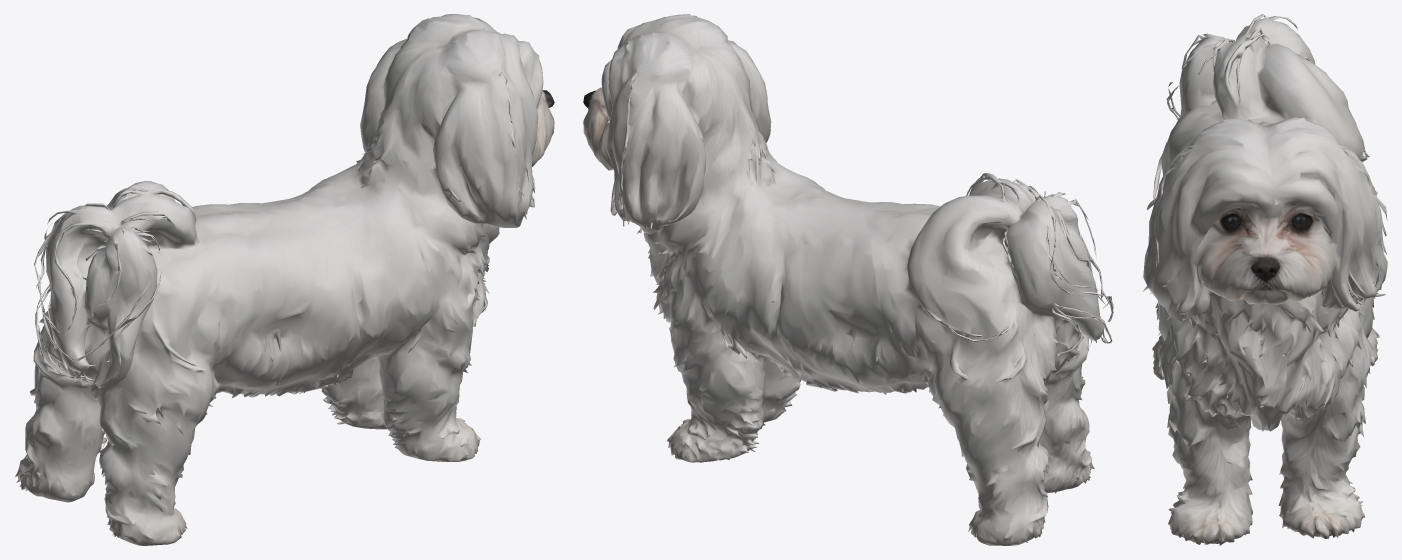
File: maltese.glb
3 renders of one model, left to right at view 1: azimuth 30°, elevation 25°; view 2: azimuth 150°, elevation 25°; view 3: azimuth 270°, elevation 25°, orthographic. The views are drawn at different scales.
Visible parts, largest first — view 1: tripo_node_efeaf3f3-8cd8-46b8-8d13-dce4b616b43d; view 2: tripo_node_efeaf3f3-8cd8-46b8-8d13-dce4b616b43d; view 3: tripo_node_efeaf3f3-8cd8-46b8-8d13-dce4b616b43d.
Part boxes in pixels (x1,y1,x2,y2): tripo_node_efeaf3f3-8cd8-46b8-8d13-dce4b616b43d: [15, 14, 554, 545]; tripo_node_efeaf3f3-8cd8-46b8-8d13-dce4b616b43d: [583, 14, 1113, 545]; tripo_node_efeaf3f3-8cd8-46b8-8d13-dce4b616b43d: [1142, 14, 1387, 545].
Size of the model in its own units: 1 by 0.733 by 0.375.
Materials: 1 (1 with a texture image).
